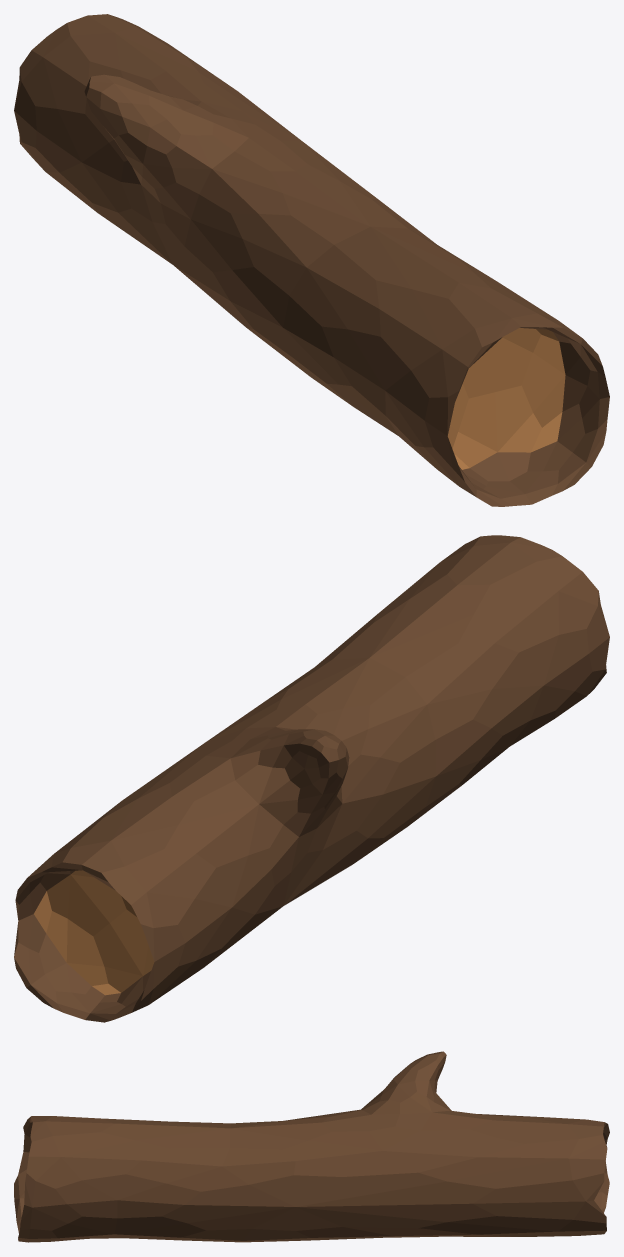
The model's file is stamp#002.glb.
The picture shows the model from 3 angles, top to bottom: view 1: azimuth 30°, elevation 25°; view 2: azimuth 150°, elevation 25°; view 3: azimuth 270°, elevation 25°; orthographic projection. The views are drawn at different scales.
Visible parts, largest first — view 1: Stump4; view 2: Stump4; view 3: Stump4.
Part boxes in pixels (left/top/right/bottom): Stump4: left=14, top=14, right=609, bottom=506; Stump4: left=14, top=535, right=609, bottom=1022; Stump4: left=14, top=1051, right=609, bottom=1242.
Size of the model in its own units: 1.52 by 1.55 by 5.59.
